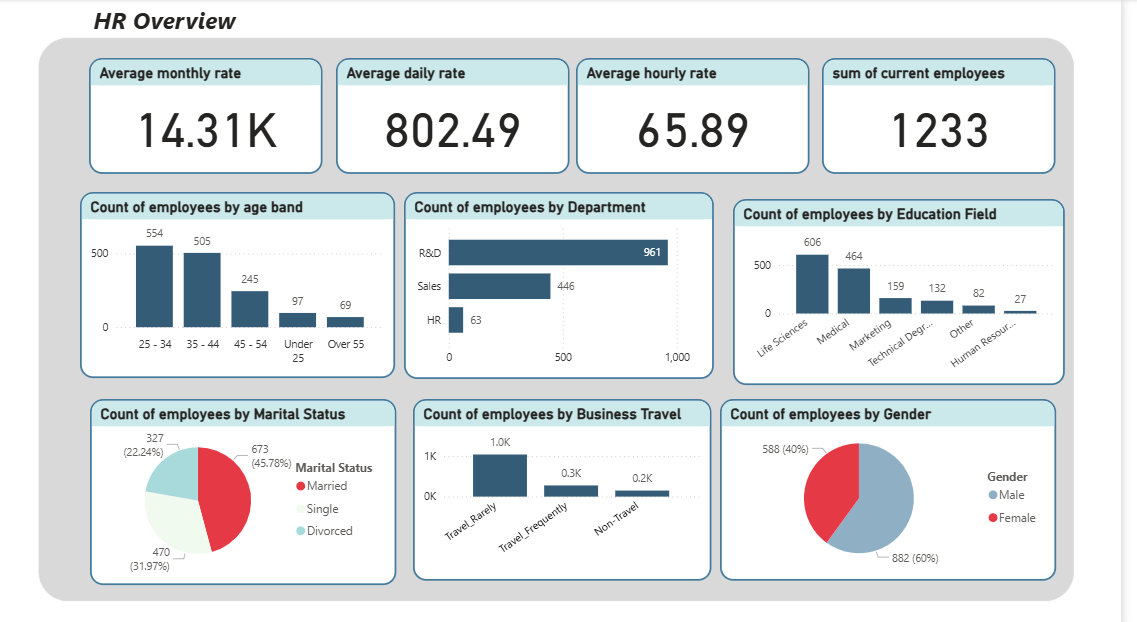

The dashboard page shown, as its layout file describes it:
{"tool":"powerbi","page":{"name":"Page 1","canvas":[1280,720],"ordinal":2},"visuals":[{"type":"card","title":"Average monthly rate","fields":{"Values":["Avg(HR.Monthly Rate)"]},"box":[103.6,66.9,266.2,132.5],"z":0},{"type":"card","title":"Average daily rate","fields":{"Values":["Avg(HR.Daily Rate)"]},"box":[385.6,66.9,266.2,132.5],"z":1000},{"type":"card","title":"Average hourly rate","fields":{"Values":["Avg(HR.Hourly Rate)"]},"box":[658.4,66.9,266.2,132.5],"z":2000},{"type":"card","title":"sum of current employees","fields":{"Values":["Sum(HR.CF_current Employee)"]},"box":[939,66.9,266.2,132.5],"z":3000},{"type":"textbox","box":[94.6,0,291.2,56.2],"z":4000},{"type":"barChart","title":"Count of employees by Department","fields":{"Category":["HR.Department"],"Y":["CountNonNull(HR.emp no)"]},"box":[462.7,219.8,353.4,213.3],"z":5000},{"type":"columnChart","title":"Count of employees by CF_age band","fields":{"Y":["CountNonNull(HR.emp no)"],"Category":["HR.CF_age band"]},"box":[93.8,219.8,358.6,212],"z":6000},{"type":"columnChart","title":"Count of employees by Education Field","fields":{"Category":["HR.Education Field"],"Y":["CountNonNull(HR.emp no)"]},"box":[837.5,227.7,377.7,212.5],"z":7000},{"type":"pieChart","title":"Count of employees by Marital Status","fields":{"Y":["CountNonNull(HR.emp no)"],"Category":["HR.Marital Status"]},"box":[104.4,455.9,348.9,212.5],"z":8000},{"type":"columnChart","title":"Count of employees by Business Travel","fields":{"Category":["HR.Business Travel"],"Y":["CountNonNull(HR.emp no)"]},"box":[473,455.9,339.7,207.2],"z":9000},{"type":"pieChart","title":"Count of employees by Gender","fields":{"Category":["HR.Gender"],"Y":["CountNonNull(HR.emp no)"]},"box":[825.7,455.9,383,207.2],"z":10000}]}

Visuals, with their boxes in screenshot pixels (x1, y1, x2, y2), scaled from the page's 1280x720 canvas onto the 1137x622 screenshot:
"Average monthly rate" card: (92,58,328,172)
"Average daily rate" card: (343,58,579,172)
"Average hourly rate" card: (585,58,821,172)
"sum of current employees" card: (834,58,1071,172)
textbox: (84,0,343,49)
"Count of employees by Department" barChart: (411,190,725,374)
"Count of employees by CF_age band" columnChart: (83,190,402,373)
"Count of employees by Education Field" columnChart: (744,197,1079,380)
"Count of employees by Marital Status" pieChart: (93,394,403,577)
"Count of employees by Business Travel" columnChart: (420,394,722,573)
"Count of employees by Gender" pieChart: (733,394,1074,573)
